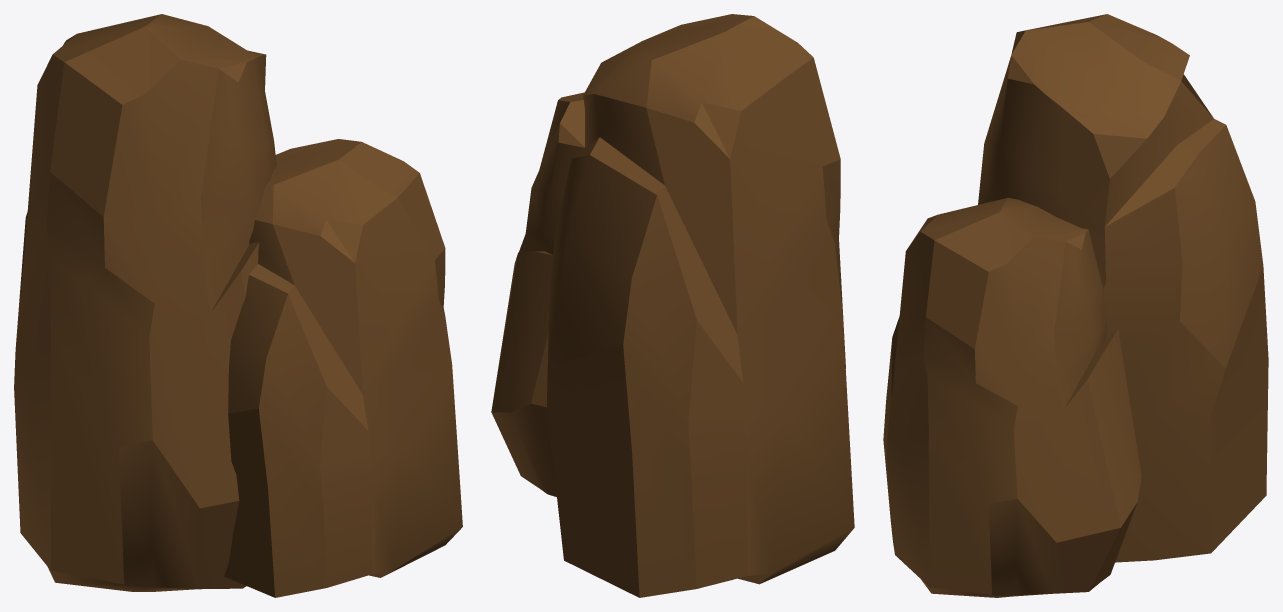
The model's file is quaternius-ultimate-space-rock-large-3-transformed.glb.
3 views of the same model, side by side, from view 1: azimuth 30°, elevation 25°; view 2: azimuth 150°, elevation 25°; view 3: azimuth 270°, elevation 25° (orthographic). The views are drawn at different scales.
Parts seen in each view (by area): view 1: Rock_Large_3; view 2: Rock_Large_3; view 3: Rock_Large_3.
Boxes of the visible parts, x1,y1,x2,y2 form: Rock_Large_3: [14, 14, 462, 597]; Rock_Large_3: [491, 14, 854, 597]; Rock_Large_3: [883, 14, 1268, 597].
Bounding box in the file's own units: 5.31 × 7.43 × 5.19.
Materials: 1 (1 with a texture image).
